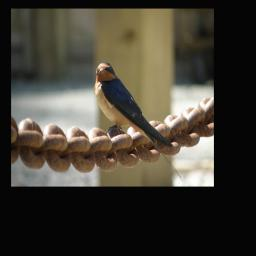Swallow: (94, 62, 185, 182)
